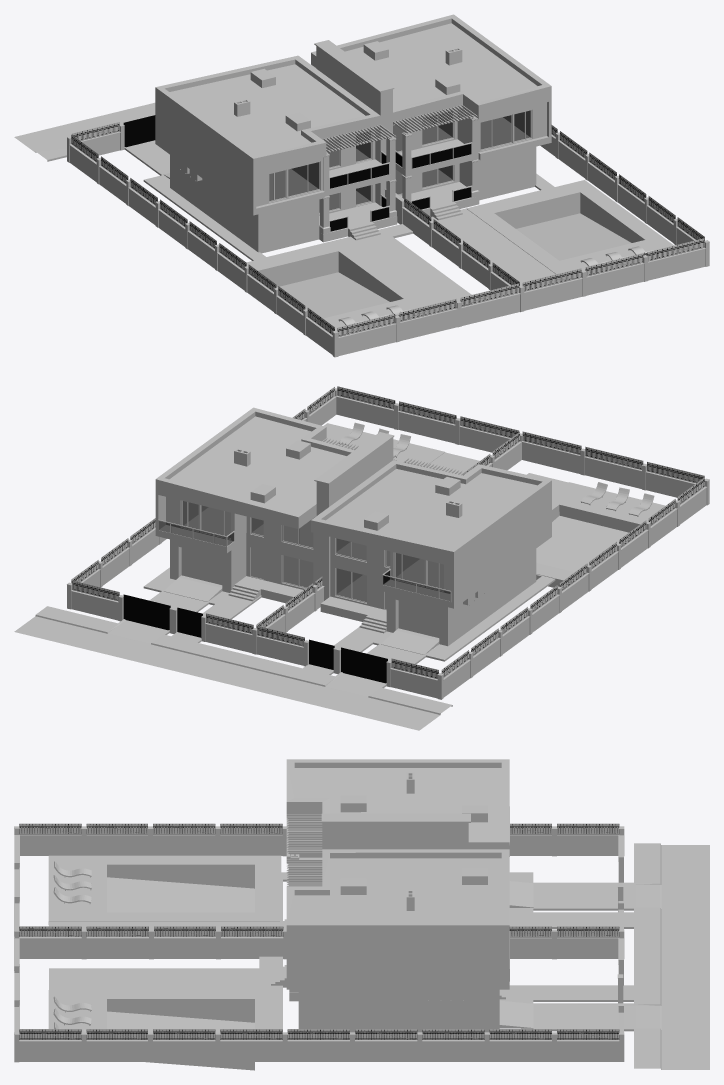
Rendered from House_1.FBX.
The picture shows the model from 3 angles, top to bottom: view 1: azimuth 30°, elevation 25°; view 2: azimuth 150°, elevation 25°; view 3: azimuth 270°, elevation 25°; orthographic projection. The views are drawn at different scales.
Visible parts, largest first — view 1: Villa-1-house, Villa-1-waterpool, Villa-1-wall, road; view 2: Villa-1-house, Villa-1-wall, Villa-1-waterpool, road; view 3: Villa-1-house, Villa-1-waterpool, Villa-1-wall, road.
Part boxes in pixels (<box>): Villa-1-house: <box>155,14,551,253</box>; Villa-1-waterpool: <box>35,140,673,330</box>; Villa-1-wall: <box>67,115,709,357</box>; road: <box>14,64,315,152</box>; Villa-1-house: <box>155,407,551,654</box>; Villa-1-wall: <box>67,386,709,699</box>; Villa-1-waterpool: <box>35,422,665,714</box>; road: <box>14,616,440,730</box>; Villa-1-house: <box>271,759,533,1032</box>; Villa-1-waterpool: <box>48,843,661,1070</box>; Villa-1-wall: <box>14,823,624,1062</box>; road: <box>661,845,709,1069</box>.
Size of the model in its own units: 3594 by 4696 by 1204.
